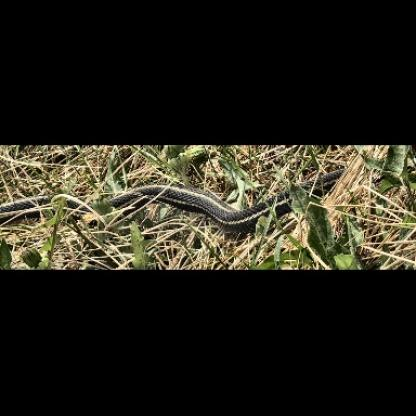Snake: (1, 164, 359, 227)
